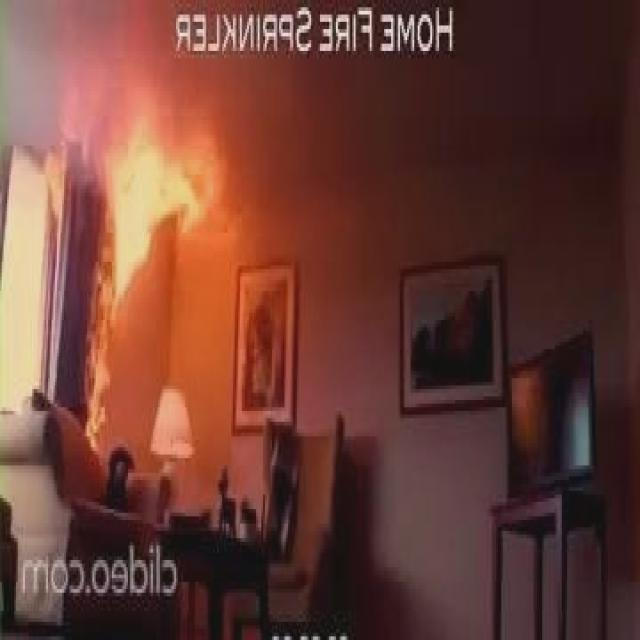fire: (59, 71, 233, 427)
